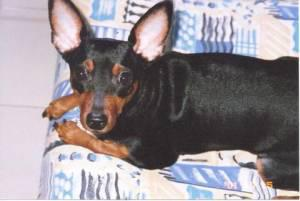dog-miniature_pinscher: (46, 0, 172, 135)
